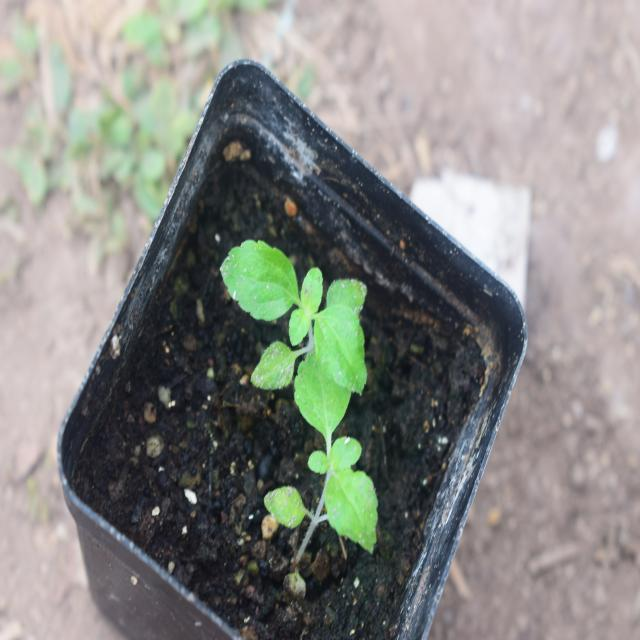billygoat_weed: (222, 222, 376, 396), (286, 344, 382, 550)
